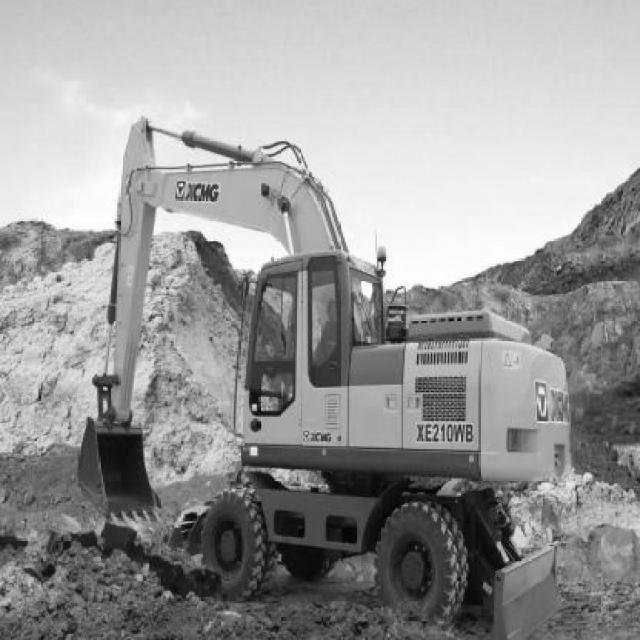Construction Equipment: (76, 118, 570, 640)
